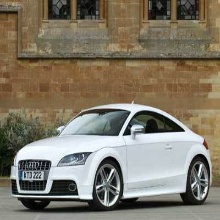no damage: (9, 101, 213, 211)
